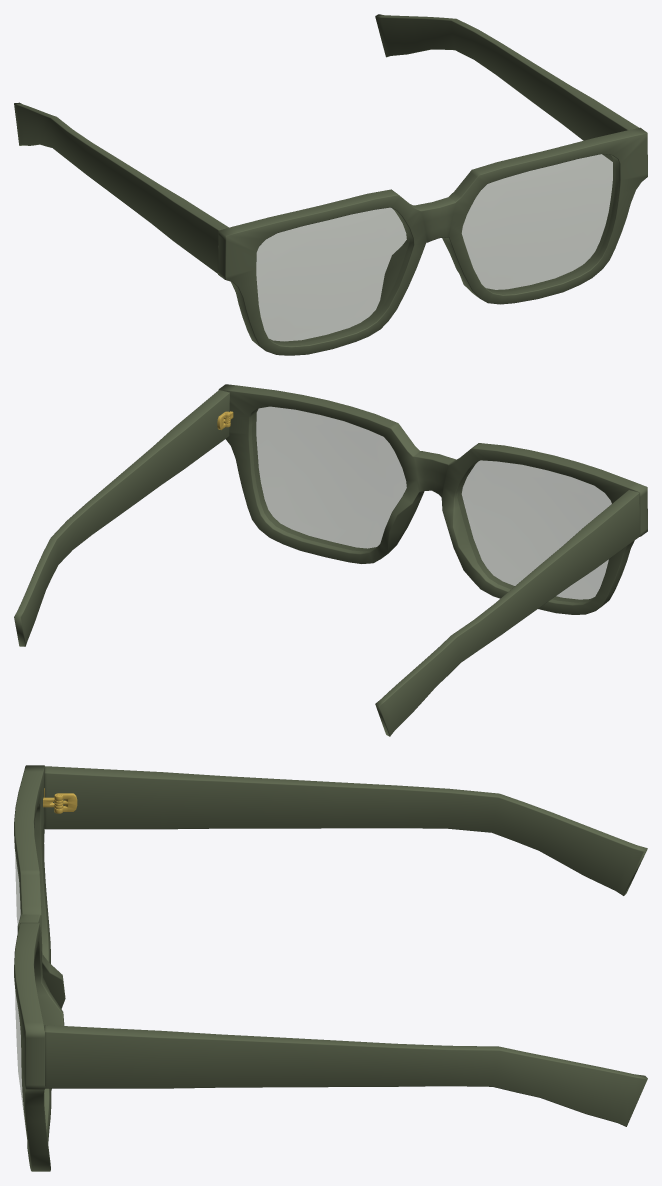
Rendered from yuvarlak-retro-altin-metal.glb.
3 views of the same model, one above another, from view 1: azimuth 30°, elevation 25°; view 2: azimuth 150°, elevation 25°; view 3: azimuth 270°, elevation 25° (orthographic). The views are drawn at different scales.
Parts seen in each view (by area): view 1: OPTIK_PRODUCT_274; view 2: OPTIK_PRODUCT_274; view 3: OPTIK_PRODUCT_274.
Boxes of the visible parts, left/top/right/bottom form: OPTIK_PRODUCT_274: left=14, top=14, right=647, bottom=355; OPTIK_PRODUCT_274: left=14, top=384, right=647, bottom=736; OPTIK_PRODUCT_274: left=14, top=765, right=647, bottom=1171.
Bounding box in the file's own units: 0.1534 × 0.0504 × 0.1538.
